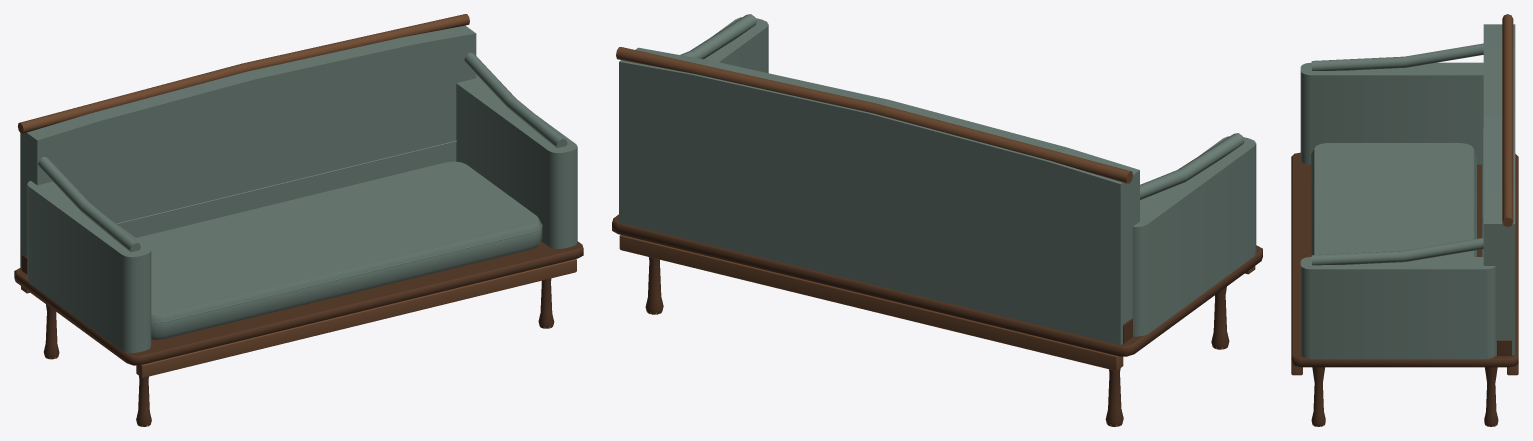
The model's file is rpg-mansion-three-side-daybed-01.glb.
3 renders of one model, left to right at view 1: azimuth 30°, elevation 25°; view 2: azimuth 150°, elevation 25°; view 3: azimuth 270°, elevation 25°, orthographic. The views are drawn at different scales.
Visible parts, largest first — view 1: rpg-mansion-three-side-daybed-01; view 2: rpg-mansion-three-side-daybed-01; view 3: rpg-mansion-three-side-daybed-01.
Part boxes in pixels (x1,y1,x2,y2): rpg-mansion-three-side-daybed-01: [14, 14, 583, 426]; rpg-mansion-three-side-daybed-01: [612, 14, 1262, 426]; rpg-mansion-three-side-daybed-01: [1291, 14, 1518, 426].
Size of the model in its own units: 2.05 by 1.02 by 0.95.
